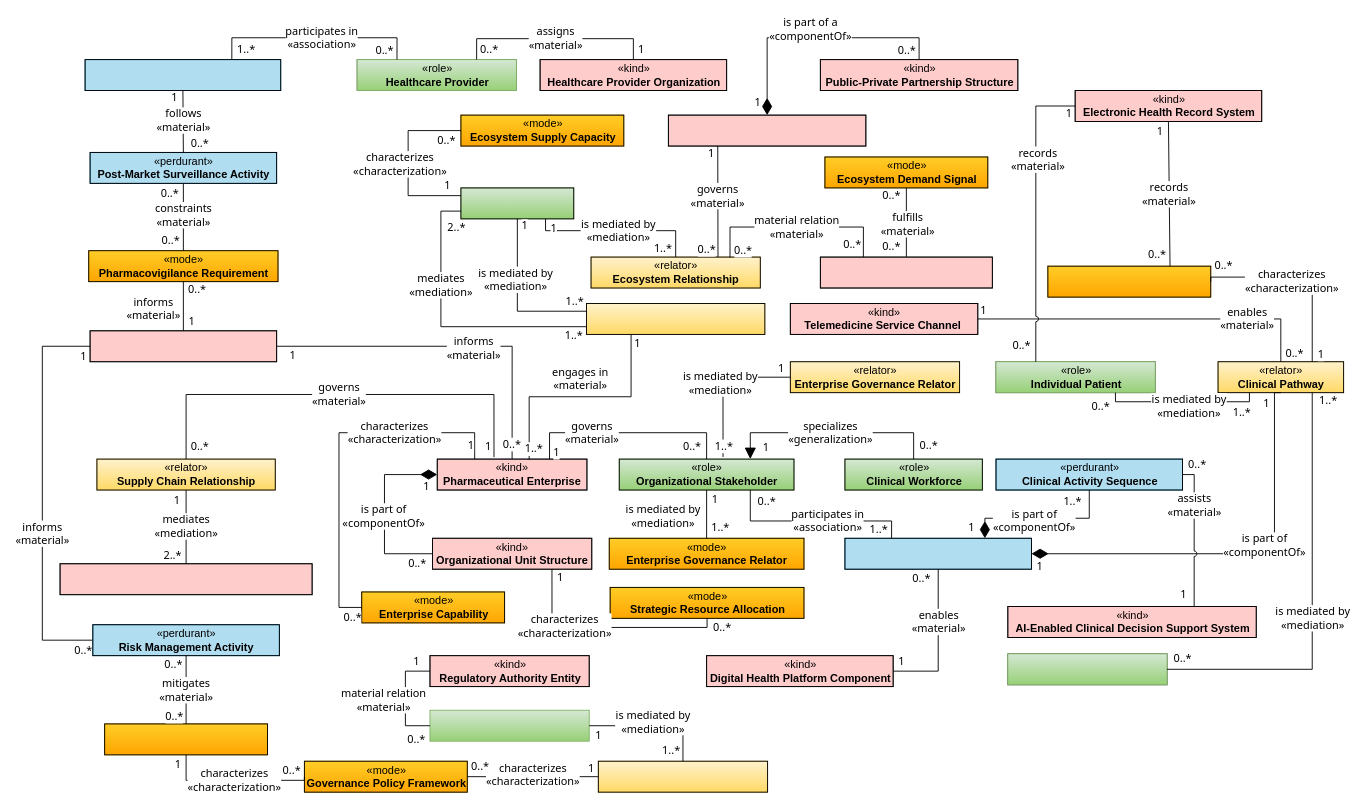
The diagram is 1365 pixels wide and 809 high, and some of its shapes have lost their labels. The shapes that lost their labels are listed below. From the top down, each one's centre as x and y in pixels, then its label:
At [182,75]: "«perdurant» Adverse Event Reporting Procedure".
At [766,130]: "«kind» Ecosystem Governance Entity".
At [517,203]: "«role» Ecosystem Actor".
At [905,272]: "«kind» Service Offering Specification".
At [1129,281]: "«mode» Patient Record Quality".
At [675,318]: "«relator» Strategic Partnership Agreement".
At [183,346]: "«kind» Real-World Evidence Platform".
At [937,553]: "«perdurant» Pharmaceutical Business Process".
At [185,579]: "«kind» Blockchain-Based Supply Chain Ledger".
At [1087,669]: "«role» Prescribing Physician".
At [186,739]: "«mode» Compliance Requirement".
At [509,725]: "«role» Regulatory Authority Role".
At [682,776]: "«relator» Regulatory Oversight".
